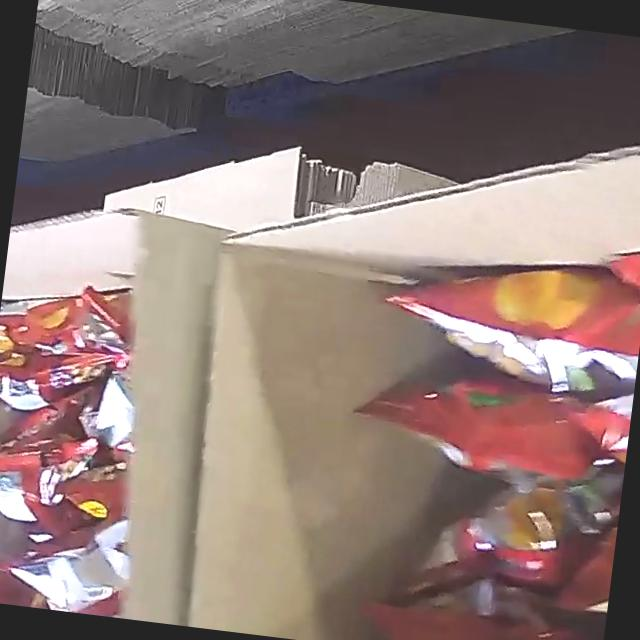masala: (322, 214, 640, 640), (0, 270, 170, 619)
